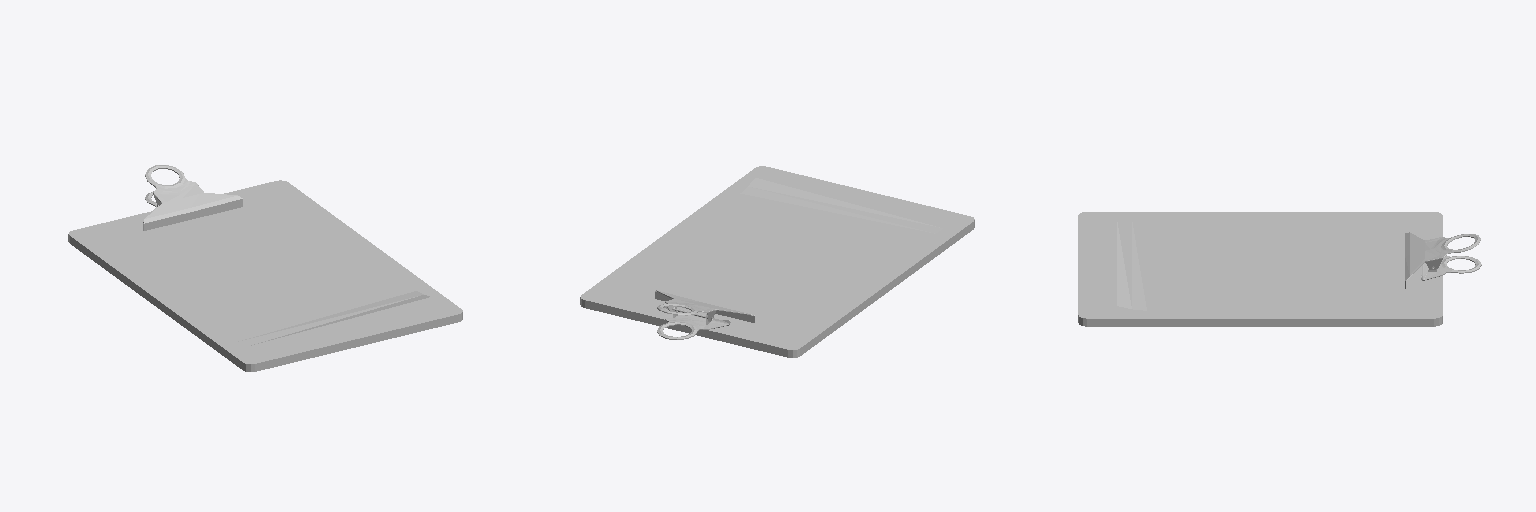
File: ClipBoard.obj
3 renders of one model, left to right at view 1: azimuth 30°, elevation 25°; view 2: azimuth 150°, elevation 25°; view 3: azimuth 270°, elevation 25°, orthographic.
Visible parts, largest first — view 1: ClipBoard; view 2: ClipBoard; view 3: ClipBoard.
Part boxes in pixels (x1,y1,x2,y2): ClipBoard: (68,165,462,371); ClipBoard: (580,166,974,357); ClipBoard: (1078,212,1481,326).
Size of the model in its own units: 0.1909 by 0.0289 by 0.3051.